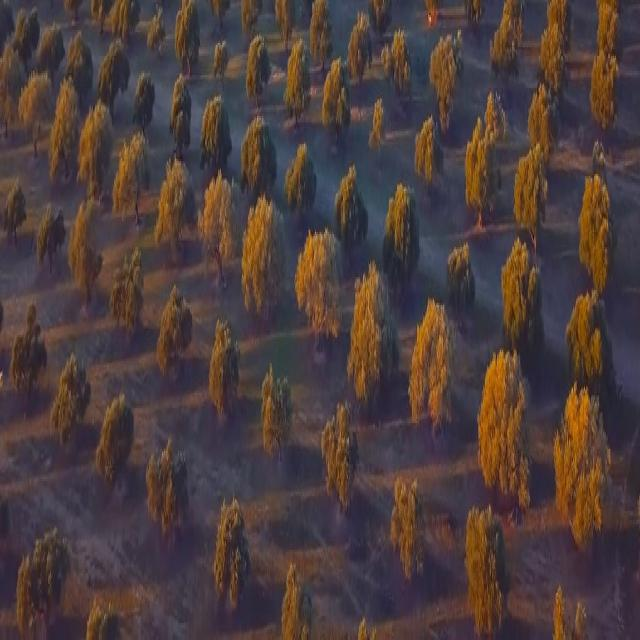trees: (554, 394, 615, 574), (478, 332, 534, 518), (400, 296, 458, 443), (459, 488, 515, 630), (457, 84, 509, 234), (235, 178, 289, 315), (560, 277, 621, 398), (294, 213, 344, 349), (346, 261, 396, 396), (15, 522, 73, 638), (386, 466, 430, 605), (5, 294, 48, 435), (570, 167, 616, 297), (93, 378, 138, 508), (497, 238, 545, 359), (198, 173, 240, 306), (144, 433, 193, 545), (321, 393, 361, 518), (253, 359, 295, 476), (214, 496, 252, 620), (206, 302, 241, 433), (47, 346, 91, 449), (512, 138, 548, 259), (154, 157, 192, 270), (112, 129, 152, 234), (156, 280, 193, 392), (382, 179, 419, 291), (49, 65, 82, 189), (331, 146, 370, 247), (67, 201, 101, 315), (239, 106, 277, 206), (433, 19, 468, 125), (318, 57, 354, 156), (93, 27, 133, 116), (107, 248, 145, 340), (19, 72, 54, 168), (80, 104, 114, 202), (441, 234, 475, 325), (283, 24, 309, 141), (343, 11, 375, 104), (284, 146, 319, 228), (200, 92, 234, 176), (539, 0, 570, 91), (590, 53, 622, 140), (383, 27, 415, 114), (276, 565, 312, 640), (489, 3, 524, 78), (33, 205, 65, 284), (415, 114, 444, 201), (64, 17, 94, 98), (172, 0, 204, 71), (4, 163, 27, 261), (308, 0, 335, 79), (246, 28, 272, 110), (170, 68, 194, 156), (0, 35, 20, 134), (531, 85, 558, 156), (131, 64, 155, 133), (367, 96, 389, 170), (16, 0, 41, 64), (39, 17, 64, 81), (146, 1, 166, 72), (593, 0, 619, 54), (110, 0, 138, 47), (273, 0, 296, 53), (211, 31, 229, 93), (240, 0, 262, 39)
